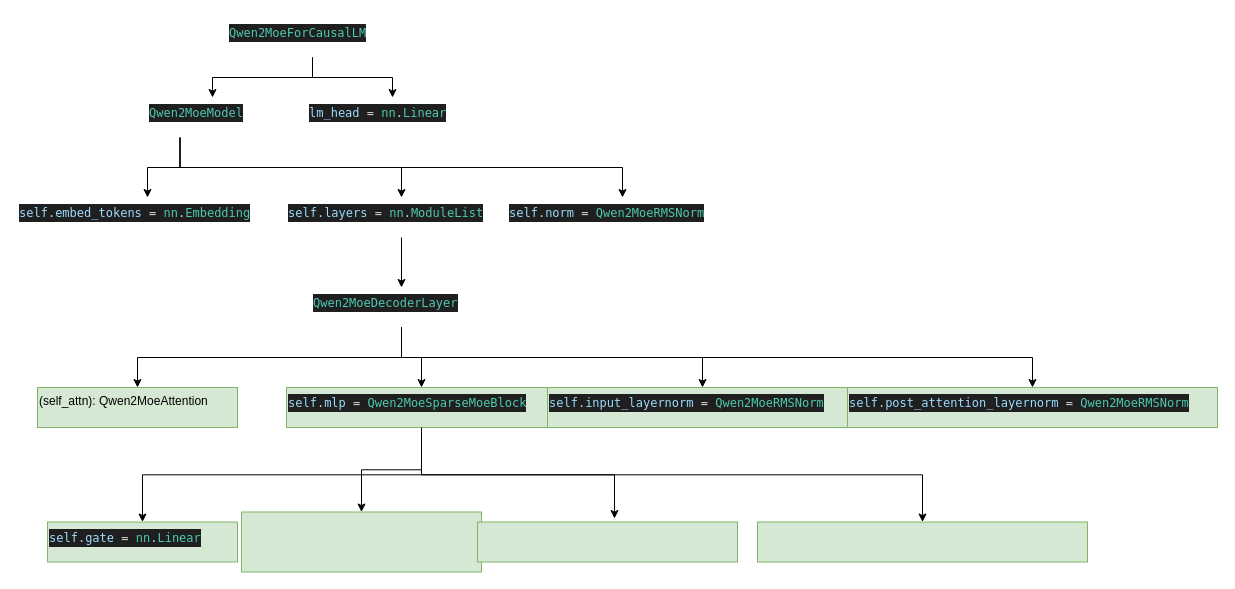
This 1235x589 diagram has some shape labels left out. Each missing label, with the box of its shape:
self . experts = nn . ModuleList ( [ Qwen2MoeMLP: (240, 511, 482, 572)
self . shared_expert = Qwen2MoeMLP: (476, 521, 738, 562)
self . shared_expert_gate = torch . nn . Linear: (756, 521, 1088, 562)
